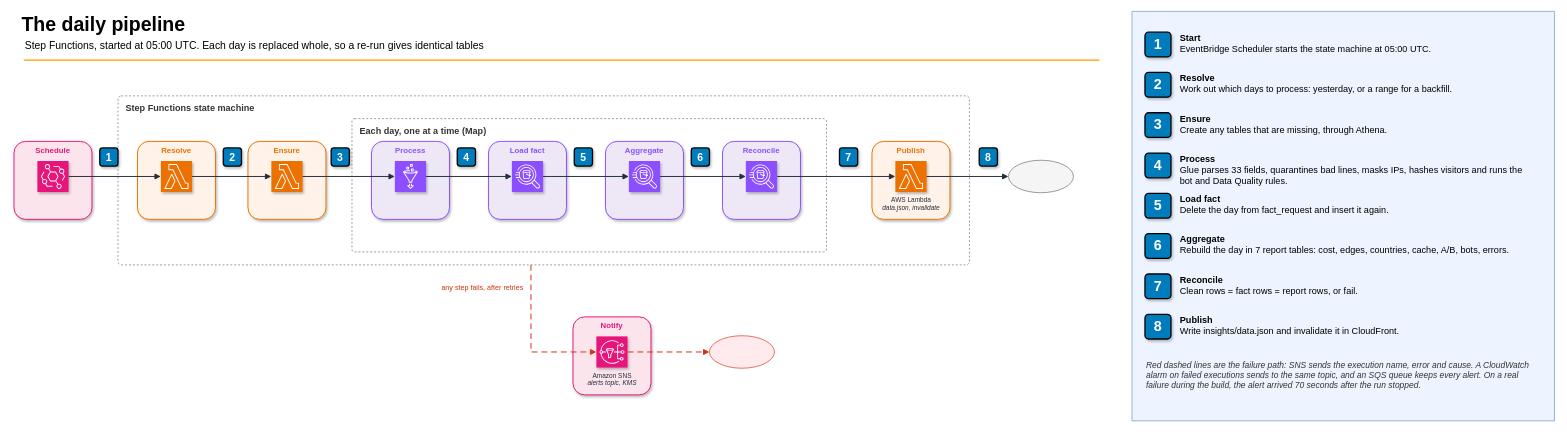
Image size: 1567x432. Some labels were removed from this diagram. Here are the shapes that lost their labels. From the top down, the centre of each, then its label:
At point (53, 177): "EventBridge Scheduler 05:00 UTC".
At point (177, 177): "AWS Lambda which days".
At point (287, 177): "AWS Lambda missing tables".
At point (411, 177): "AWS Glue 5.0 parse, mask, check".
At point (528, 177): "Amazon Athena replace the day".
At point (645, 177): "Amazon Athena 7 report tables".
At point (762, 177): "Amazon Athena row counts match".
At point (1040, 176): "Done".
At point (741, 351): "Failed".
